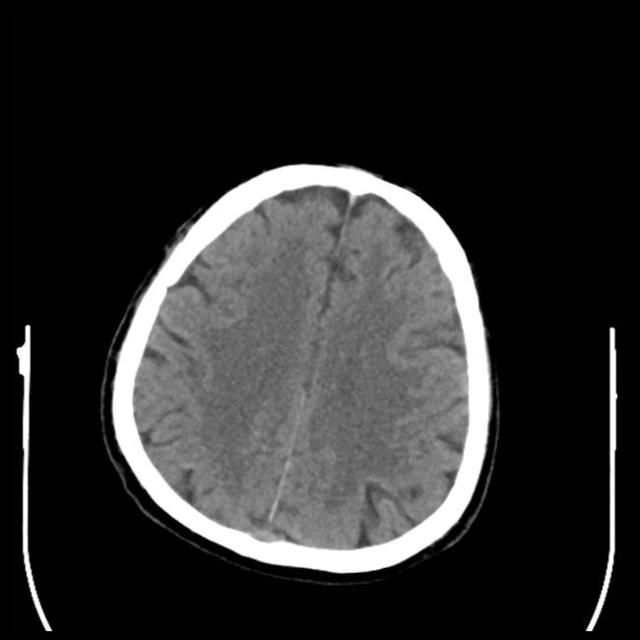lesion: (101, 158, 502, 580)
